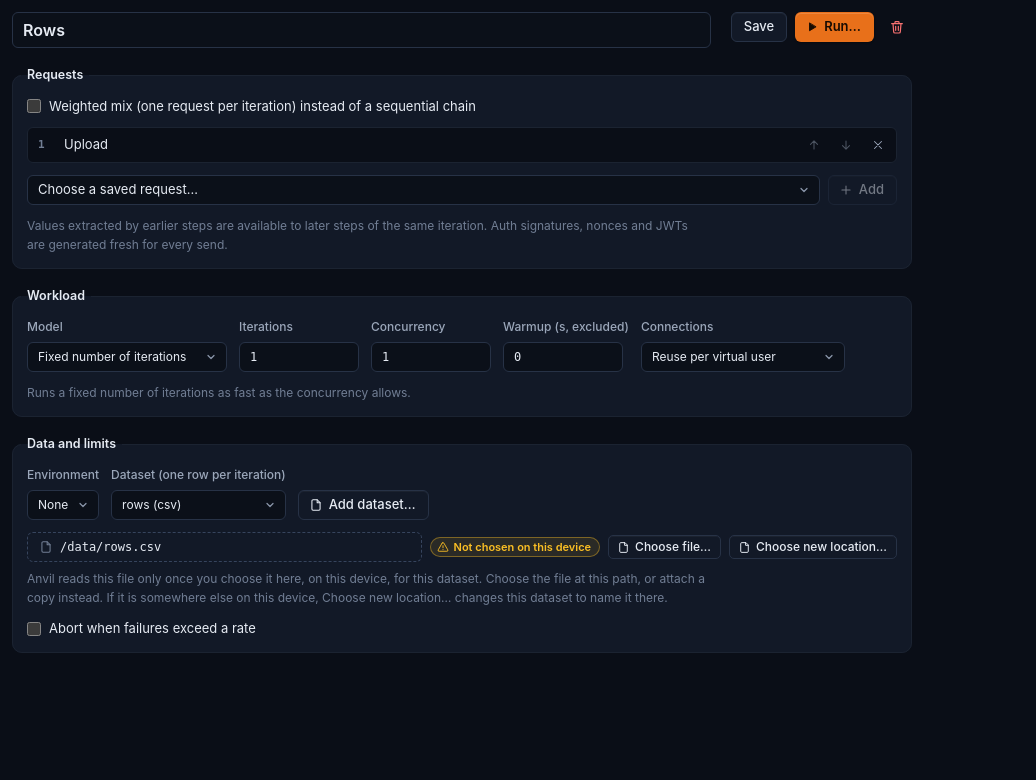
it: where linked files are chosen › shows the selected linked dataset's status in the load plan
The image size is (1036, 780).
No dataset selected: no status.
Select "None" in the dropdown labelled "Dataset (one row per iteration)". click: (198, 505)
box: [111,490,286,520]
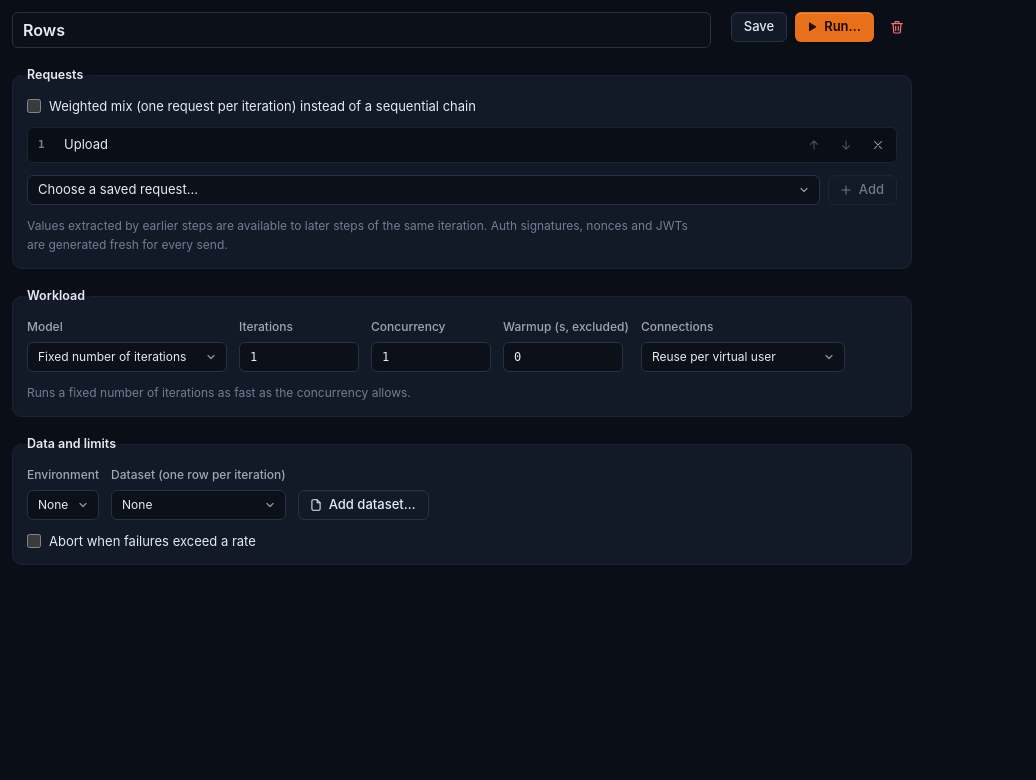
Expected: the element with test id "linked-file" is gone
